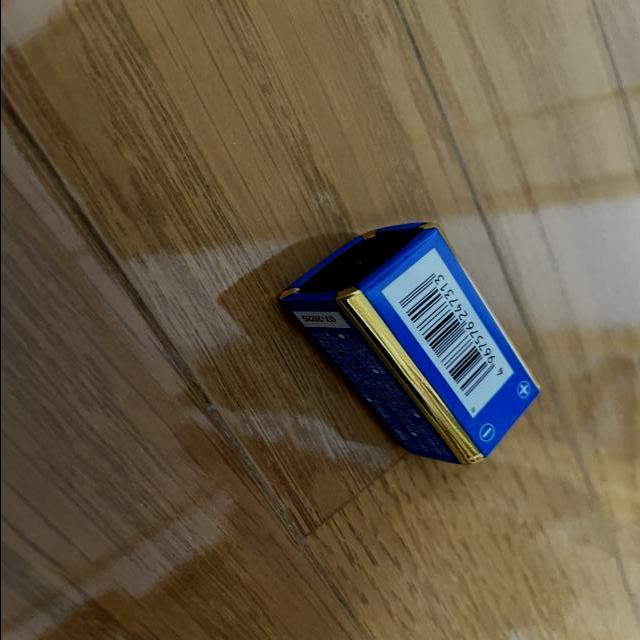9V: (275, 223, 540, 466)
